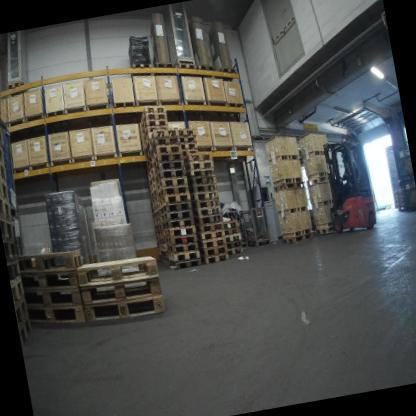forklift: (314, 123, 386, 241)
pallet: (75, 249, 159, 288), (83, 291, 167, 327), (77, 274, 164, 305), (15, 240, 80, 273), (25, 298, 86, 333), (22, 281, 81, 308), (19, 266, 78, 291), (149, 142, 183, 168), (146, 126, 181, 150), (150, 151, 185, 173), (6, 77, 35, 102), (148, 134, 180, 156), (167, 252, 202, 272), (154, 166, 185, 187), (15, 297, 34, 331), (138, 103, 167, 125), (138, 109, 168, 130), (156, 176, 189, 195), (180, 148, 214, 166), (158, 190, 191, 208), (11, 280, 29, 313), (164, 230, 198, 247), (139, 118, 169, 137), (272, 178, 305, 195), (157, 184, 189, 201), (166, 238, 198, 255), (167, 245, 201, 261), (171, 54, 198, 74), (160, 208, 193, 224), (153, 160, 184, 177), (280, 230, 315, 245), (0, 190, 14, 227), (164, 223, 196, 239), (195, 227, 225, 244), (184, 156, 215, 172), (139, 126, 169, 142), (158, 201, 190, 216), (216, 62, 240, 82), (8, 261, 24, 290), (189, 196, 219, 210), (193, 204, 221, 219), (193, 213, 223, 227), (199, 245, 229, 259), (0, 217, 15, 245), (188, 174, 216, 188), (198, 237, 226, 251), (162, 215, 192, 228), (306, 173, 332, 188), (4, 242, 19, 268), (188, 182, 217, 195), (188, 190, 218, 202), (152, 60, 174, 76), (127, 60, 152, 74), (185, 167, 214, 179), (194, 222, 223, 234), (202, 253, 230, 265), (0, 146, 8, 184), (22, 319, 34, 344), (315, 224, 338, 237), (0, 168, 8, 202), (176, 126, 196, 138), (178, 140, 199, 151), (178, 135, 198, 145), (223, 232, 241, 243), (198, 62, 212, 76), (228, 246, 244, 258), (138, 135, 151, 149), (144, 167, 157, 181), (145, 174, 158, 188), (180, 148, 198, 158), (225, 240, 243, 249), (149, 196, 162, 208), (149, 188, 160, 202), (222, 219, 239, 228), (223, 226, 240, 235), (151, 203, 162, 216), (146, 181, 158, 192), (160, 256, 172, 267), (143, 154, 153, 166), (395, 202, 407, 212), (145, 162, 154, 173), (156, 236, 167, 245), (144, 149, 152, 161), (393, 192, 405, 200), (154, 222, 165, 230), (155, 229, 166, 237), (393, 197, 405, 204), (394, 187, 404, 195), (153, 216, 163, 223), (159, 251, 168, 257), (159, 246, 167, 252)
stillage: (0, 113, 25, 214), (219, 203, 251, 254), (241, 201, 274, 250), (0, 214, 30, 267), (391, 138, 414, 183), (400, 179, 416, 214)
